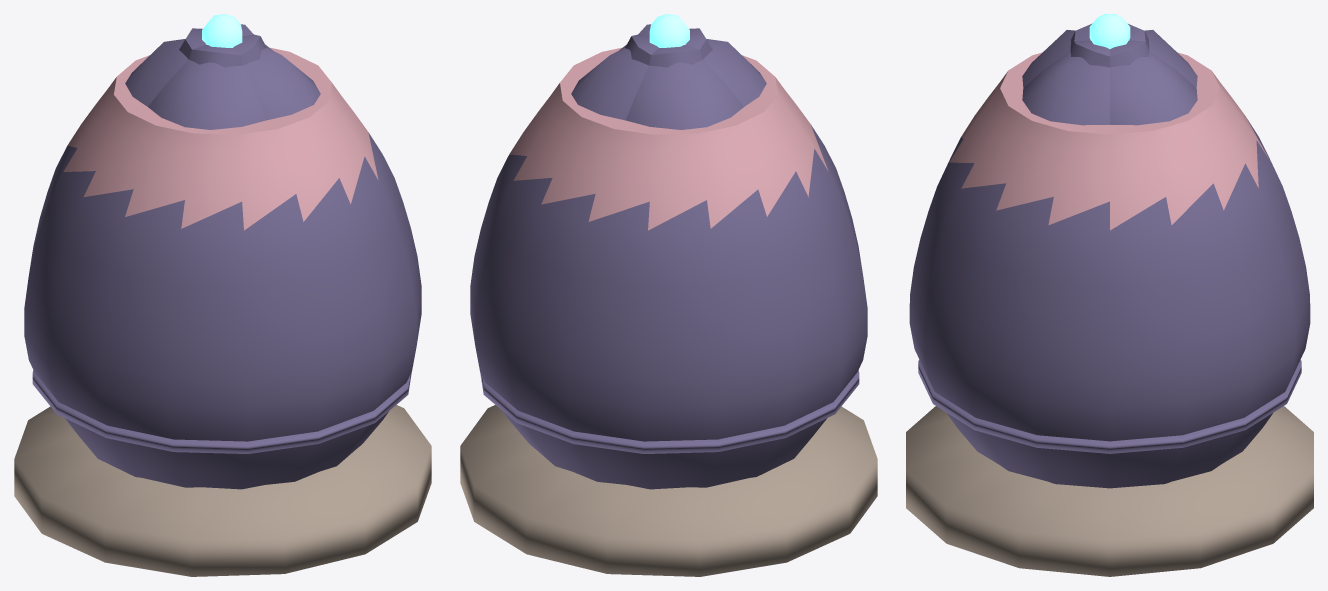
The model's file is xeno-species-and-alien-creatures-insectoid-egg-46e7b3ef__21130.glb.
3 views of the same model, side by side, from view 1: azimuth 30°, elevation 25°; view 2: azimuth 150°, elevation 25°; view 3: azimuth 270°, elevation 25° (orthographic).
Visible parts, largest first — view 1: insectoid-egg; view 2: insectoid-egg; view 3: insectoid-egg.
Boxes of the visible parts, <box> form: insectoid-egg: <box>14,14,431,576</box>; insectoid-egg: <box>460,14,877,576</box>; insectoid-egg: <box>906,14,1313,576</box>.
Bounding box in the file's own units: 0.5706 × 0.775 × 0.5564.
